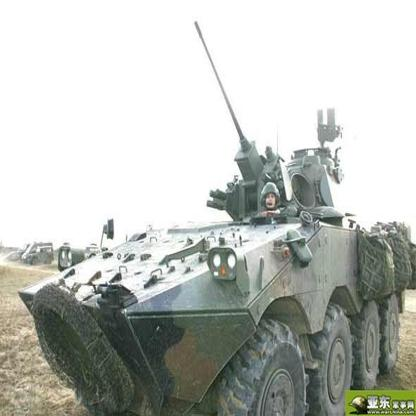Tank: (12, 87, 416, 416)
